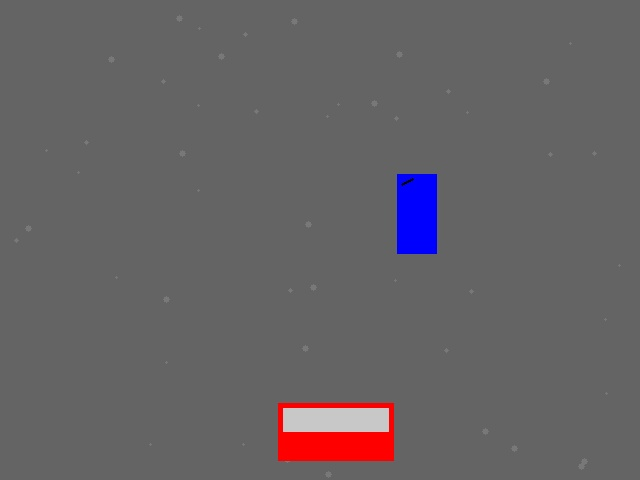car: (278, 403, 393, 460)
motorcycle: (397, 174, 436, 253)
